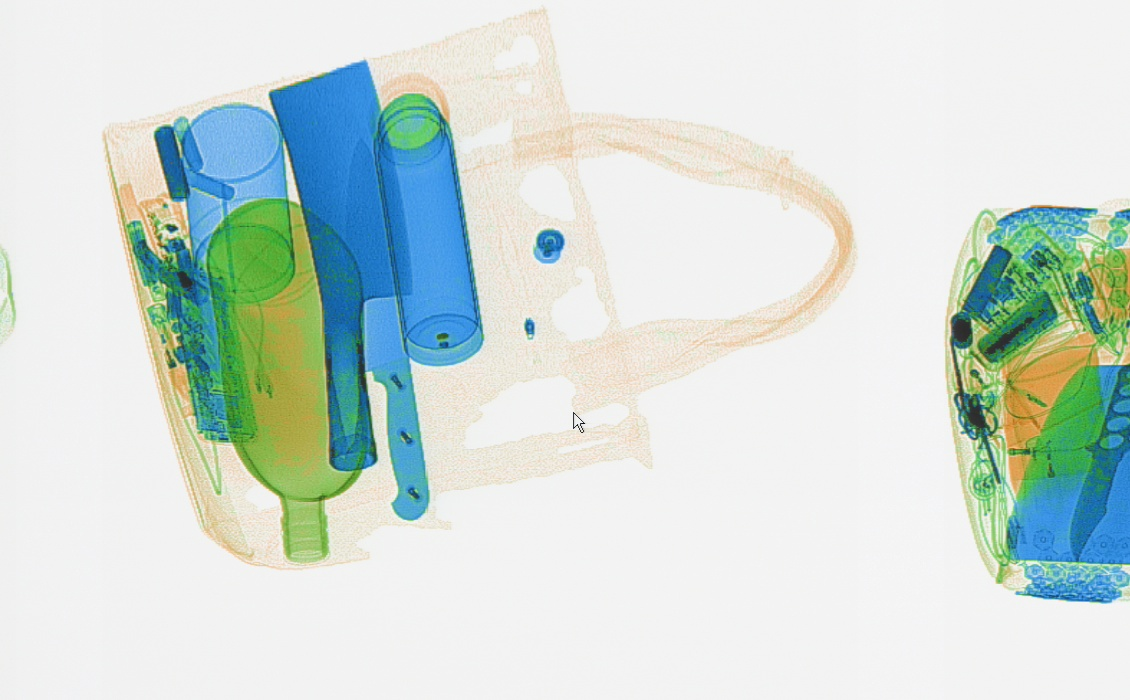knife: (267, 59, 414, 471), (344, 138, 430, 521), (1069, 364, 1127, 560)
